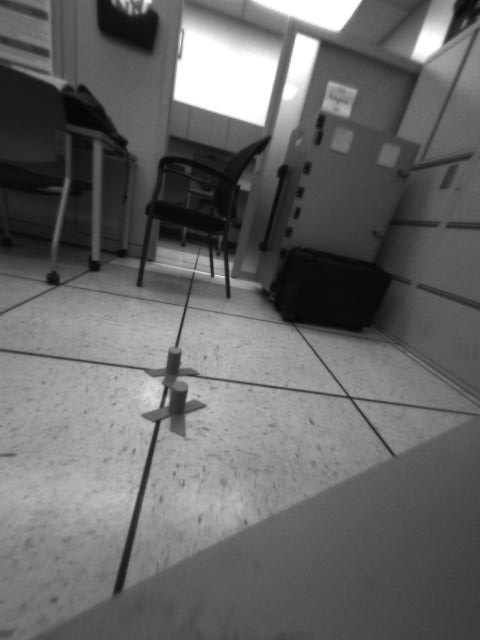X: (141, 381, 210, 437), (145, 347, 202, 388)
